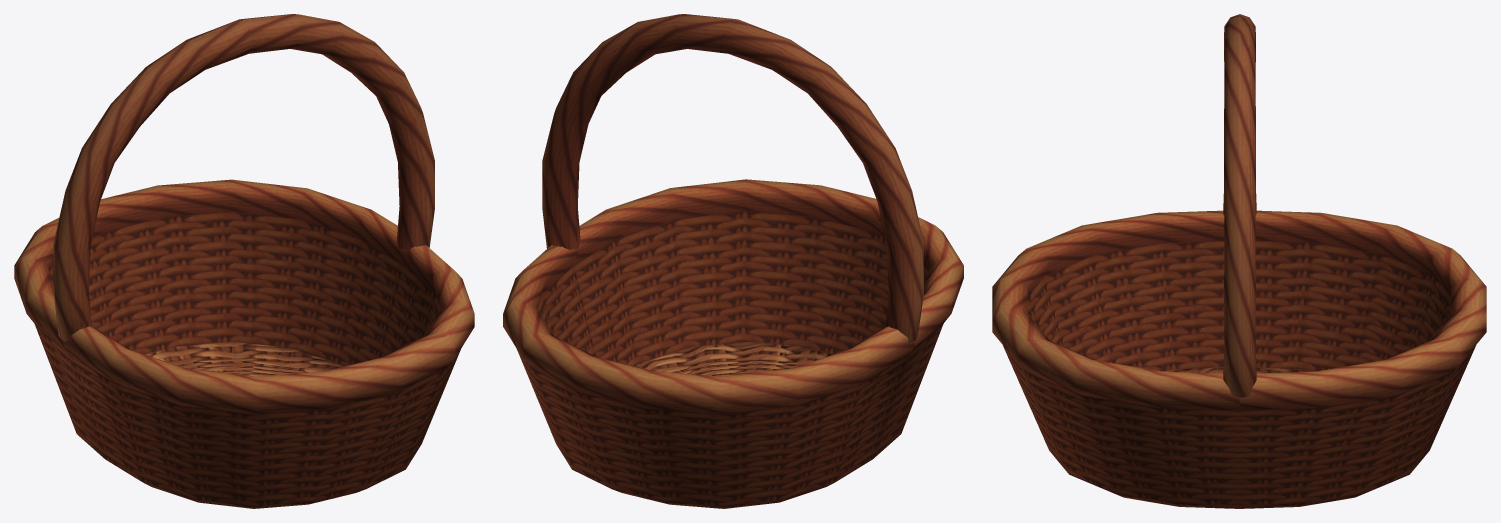
Rendered from Basket.fbx.
3 renders of one model, left to right at view 1: azimuth 30°, elevation 25°; view 2: azimuth 150°, elevation 25°; view 3: azimuth 270°, elevation 25°, orthographic.
Visible parts, largest first — view 1: Basket_01; view 2: Basket_01; view 3: Basket_01.
Part boxes in pixels (x1,y1,x2,y2): Basket_01: (14, 14, 474, 508); Basket_01: (503, 14, 963, 508); Basket_01: (992, 14, 1486, 508).
Size of the model in its own units: 112 by 117 by 128.
